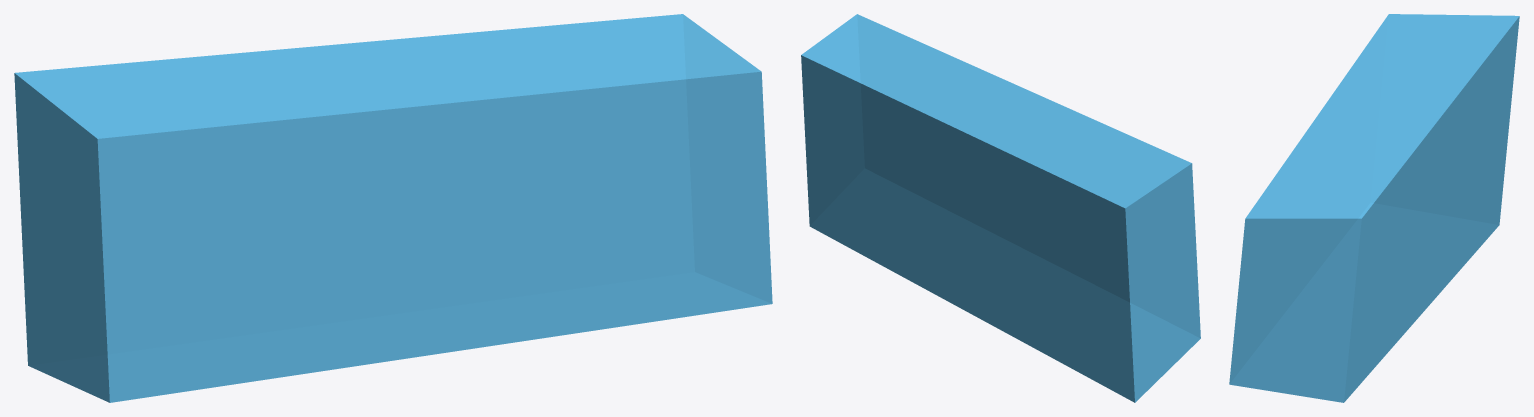
Rendered from Event_421115418_HErechit_10.fbx.
3 views of the same model, side by side, from view 1: azimuth 30°, elevation 25°; view 2: azimuth 150°, elevation 25°; view 3: azimuth 270°, elevation 25° (orthographic). The views are drawn at different scales.
Visible parts, largest first — view 1: Model; view 2: Model; view 3: Model.
Boxes of the visible parts, x1,y1,x2,y2 form: Model: (14,14,772,402); Model: (801,14,1200,402); Model: (1229,14,1519,402).
Size of the model in its own units: 1.38 by 0.6601 by 0.8308.
